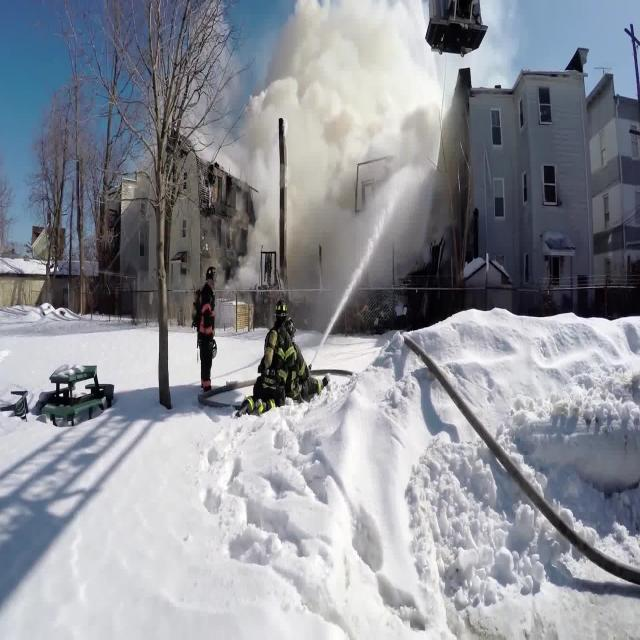Smoke: (170, 0, 448, 295)
